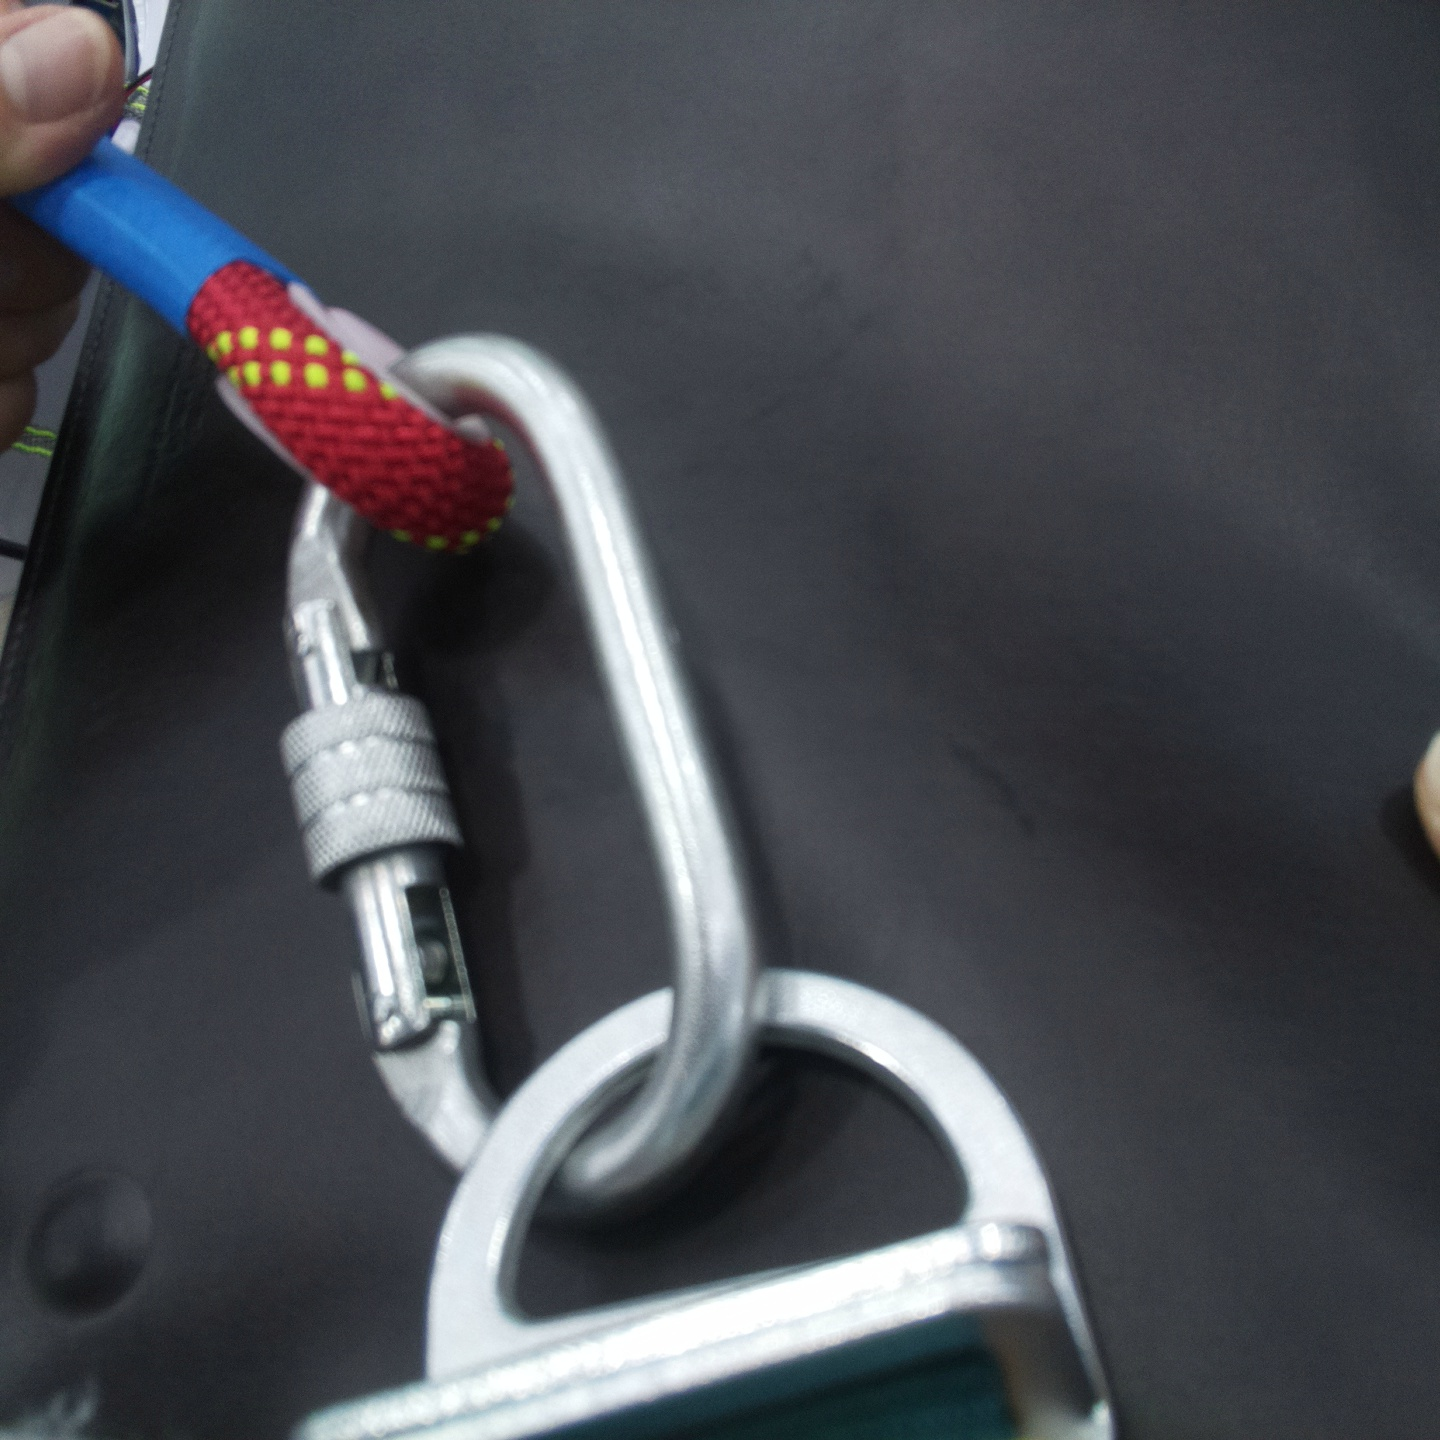SUCCESS: (261, 738, 1112, 1387)
